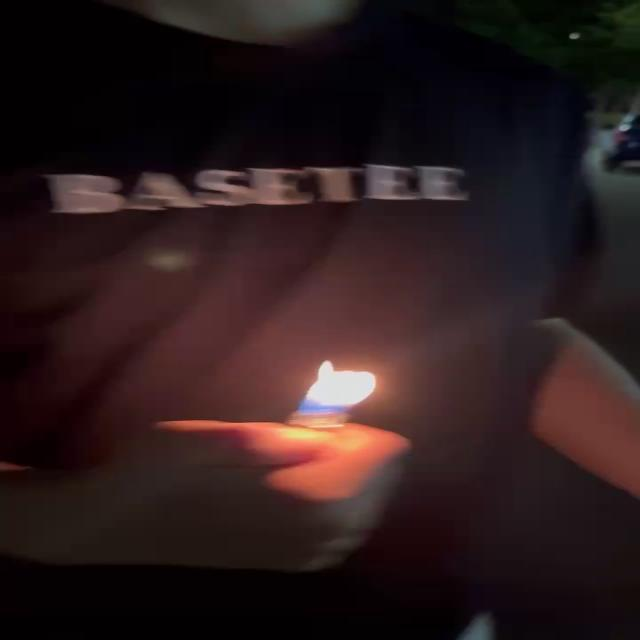Fire: (292, 358, 383, 415)
